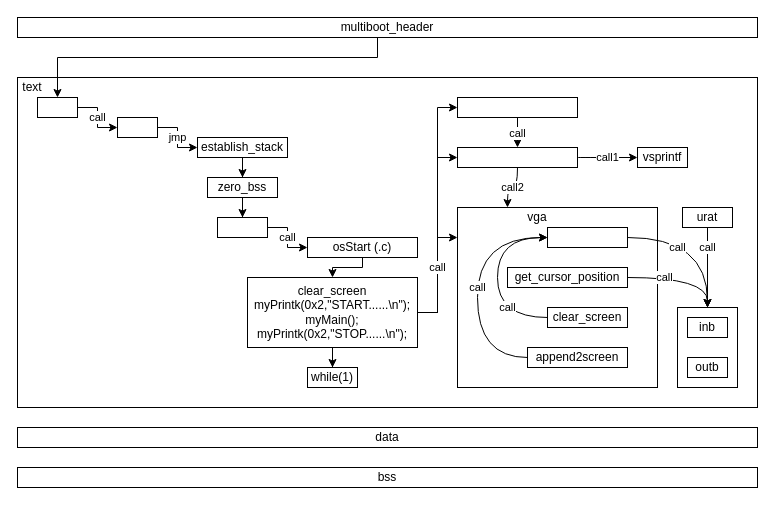
The diagram is 775 pixels wide and 505 high, and some of its shapes have lost their labels. The box of each missing label's shape, as (x1, y1, x2, y2) in pixels:
_start: (116, 116, 158, 138)
io: (676, 306, 738, 388)
myMain at main.c: (456, 96, 578, 118)
myPrintk/myPrintf: (456, 146, 578, 168)
start: (36, 96, 78, 118)
to_main: (216, 216, 268, 238)
update_cursor: (546, 226, 628, 248)
